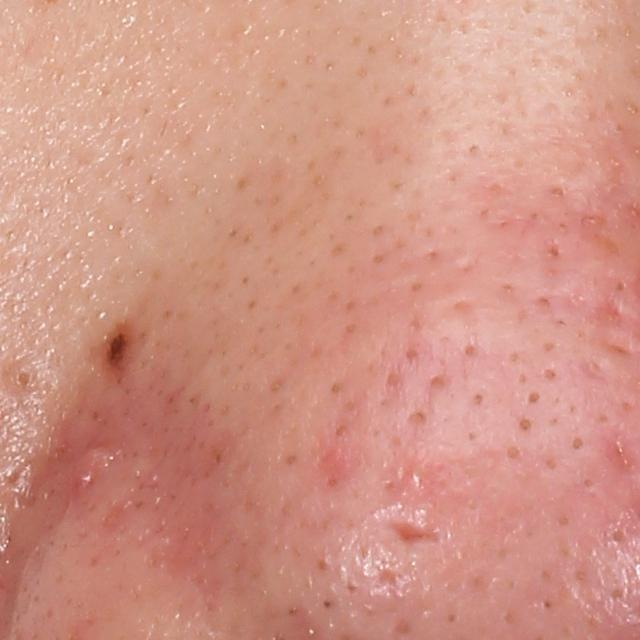comedo: (6, 359, 44, 398), (401, 407, 431, 434), (511, 411, 538, 437), (537, 362, 559, 387), (520, 385, 541, 409), (608, 525, 628, 550), (567, 433, 587, 455), (546, 183, 567, 201), (611, 276, 631, 294), (506, 441, 522, 461)
nevus: (106, 328, 128, 368)
